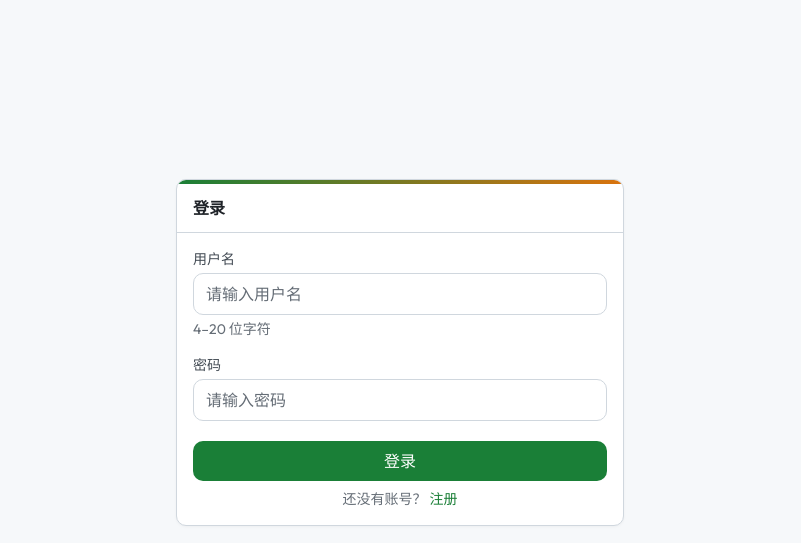
Test: Scheduled Transfer Flow › should_display_scheduled_transfer_page_when_authenticated
Type "e2euser" into the field labelled "用户名" at [400, 294], box [193,273,607,315]
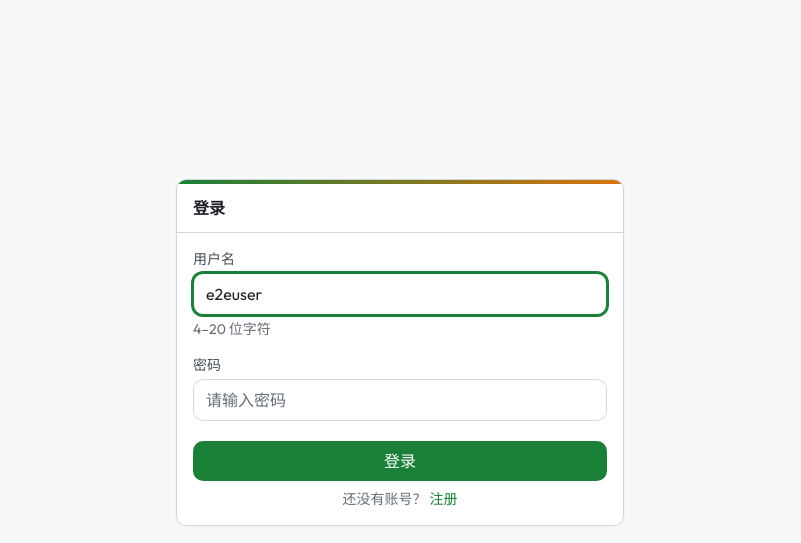
Type "password1" into the password field labelled "密码" at [400, 400], box [193,379,607,421]
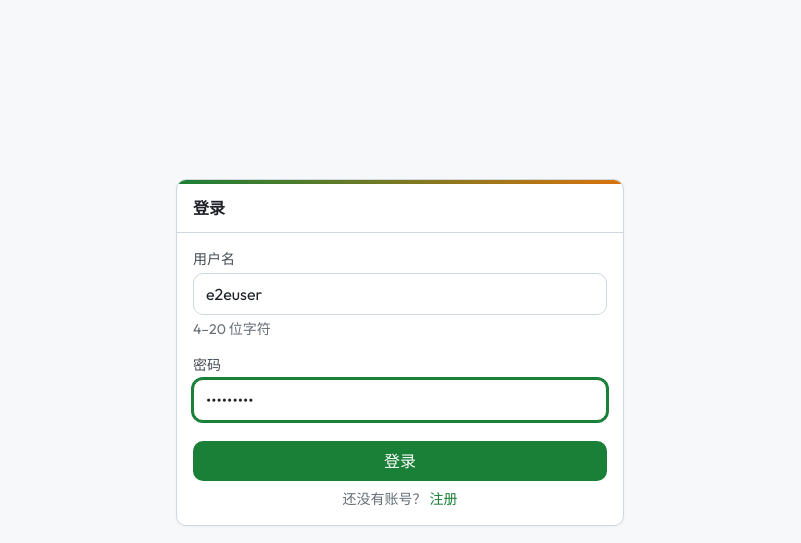
Click the submit button at [400, 461], box [193,441,607,481]
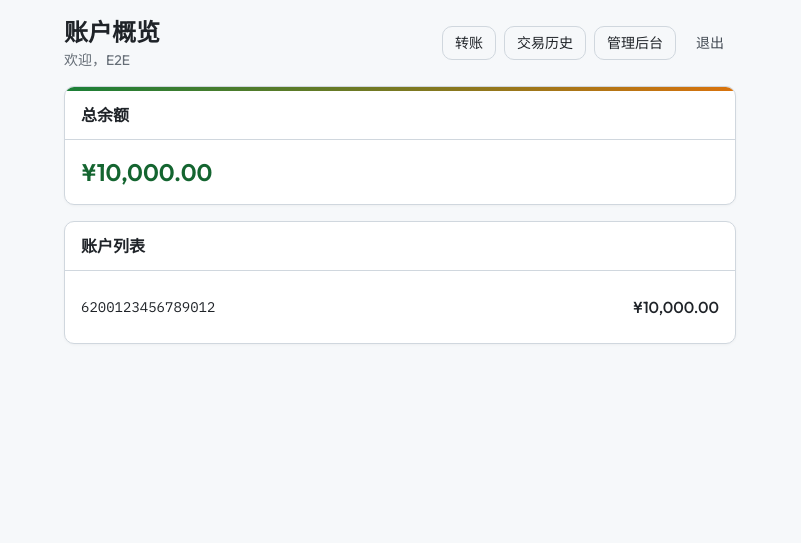
Open "/scheduled-transfer"
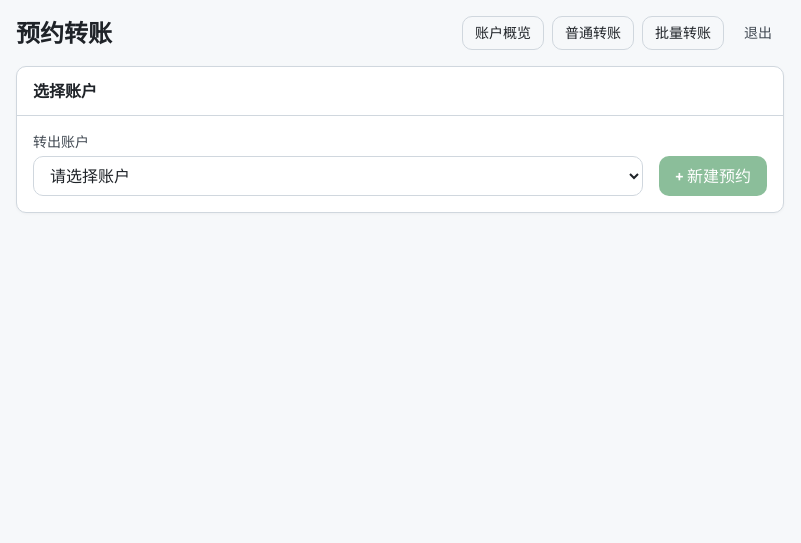
Now the heading "预约转账" is shown, box [16,17,112,49]
Now the heading "选择账户" is shown, box [33,81,97,101]
